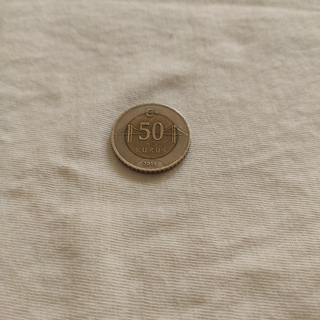50KURUS: (108, 101, 192, 175)
